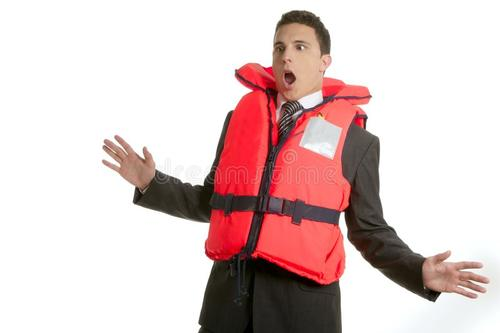reflective_clothes: (201, 64, 373, 282)
